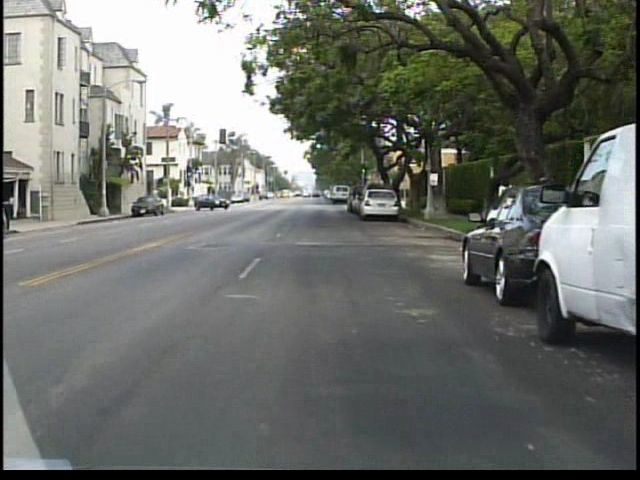person: (494, 173, 519, 232)
